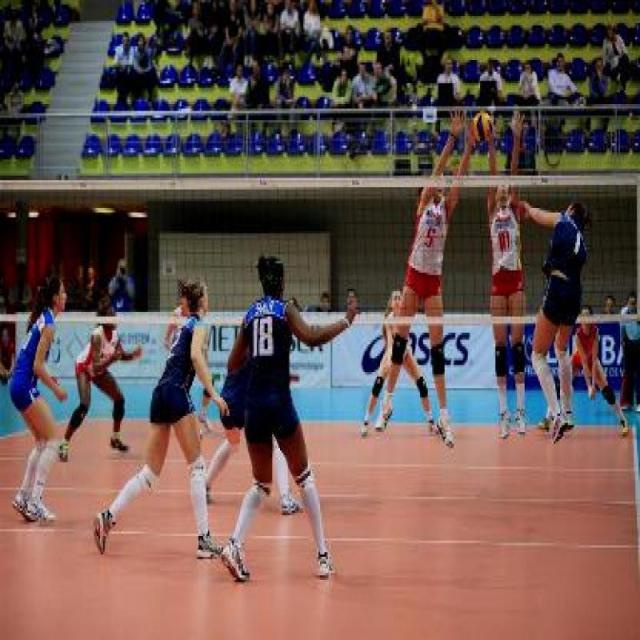volleyball: (472, 108, 492, 144)
